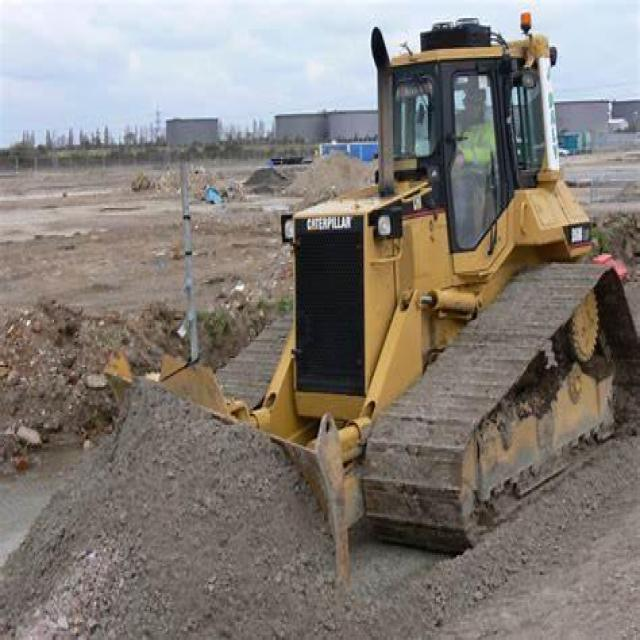buldozerpayloadergrader: (84, 18, 626, 588)
